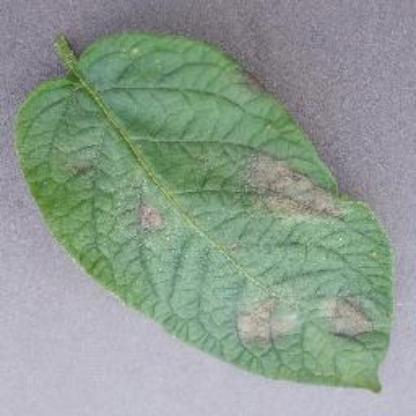Late-Blight: (16, 17, 404, 404)
